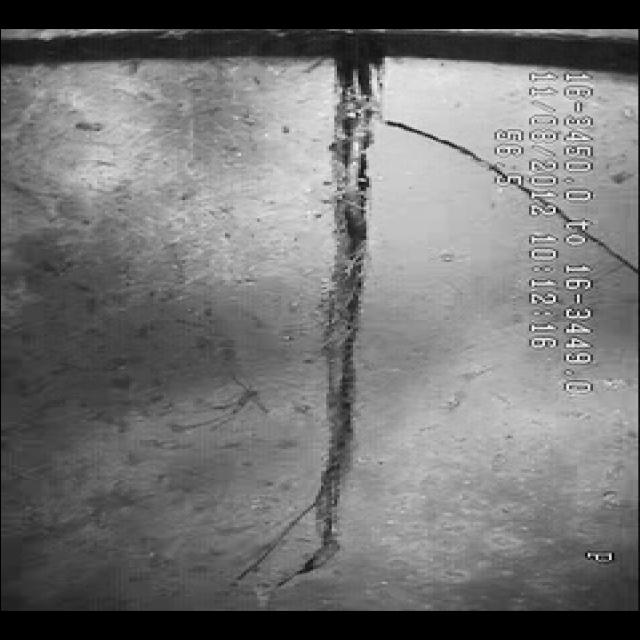Fracture: (212, 58, 448, 586)
